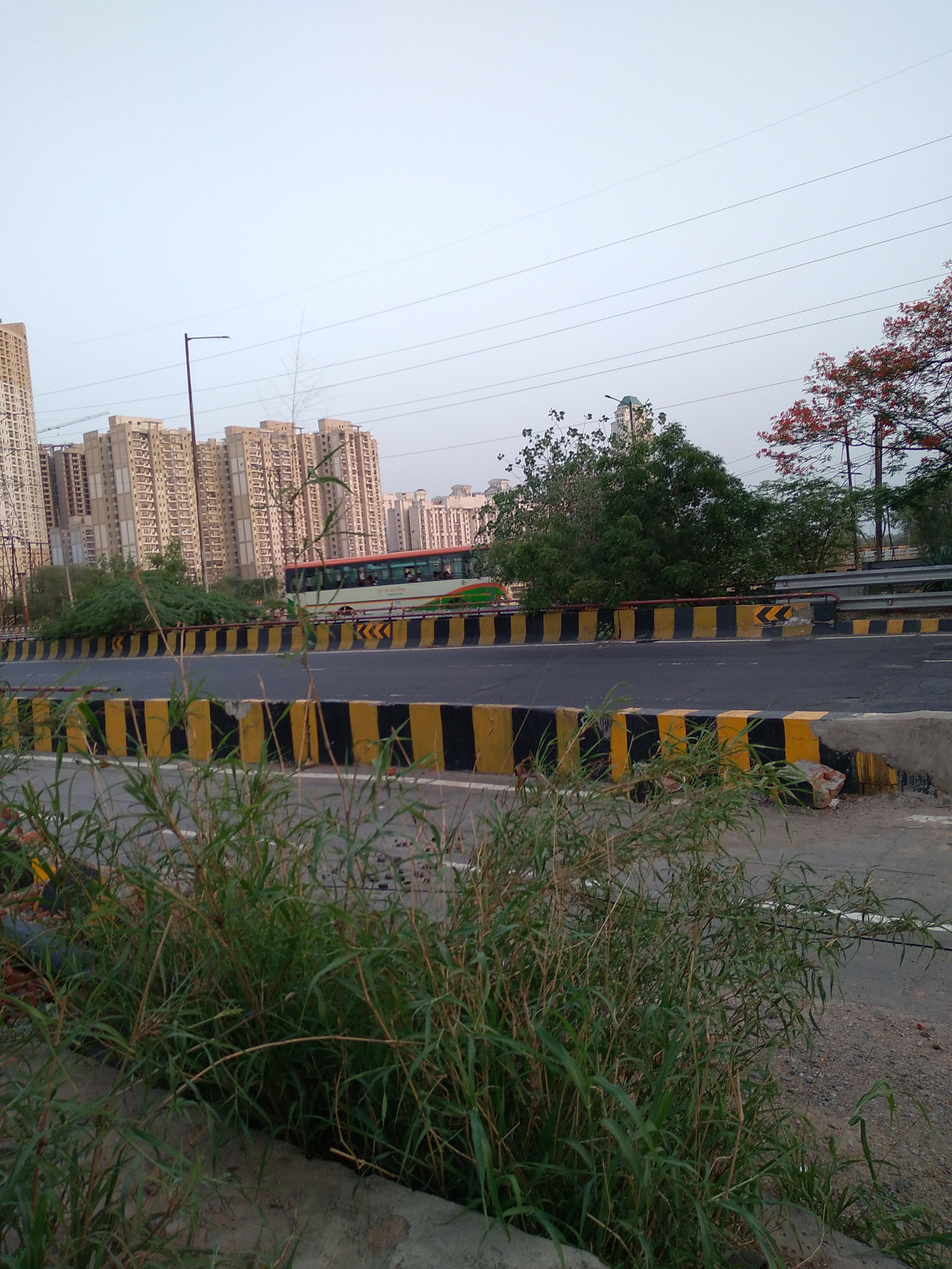non-ambulance: (276, 530, 527, 644)
